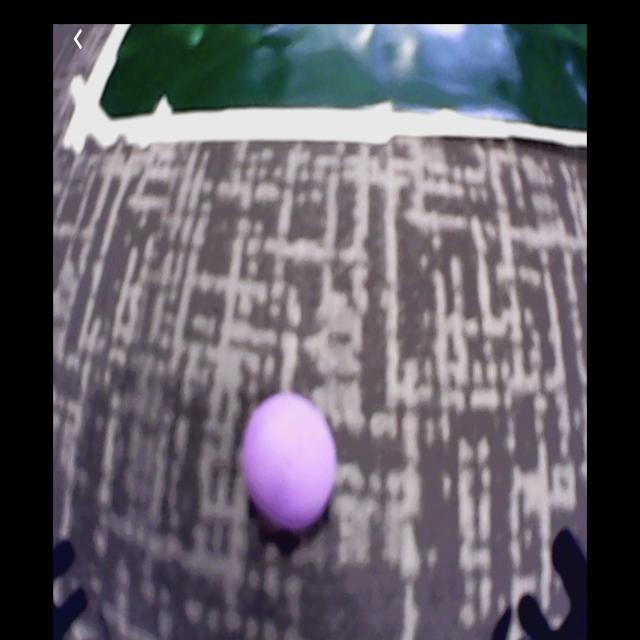ball: (245, 396, 338, 533)
